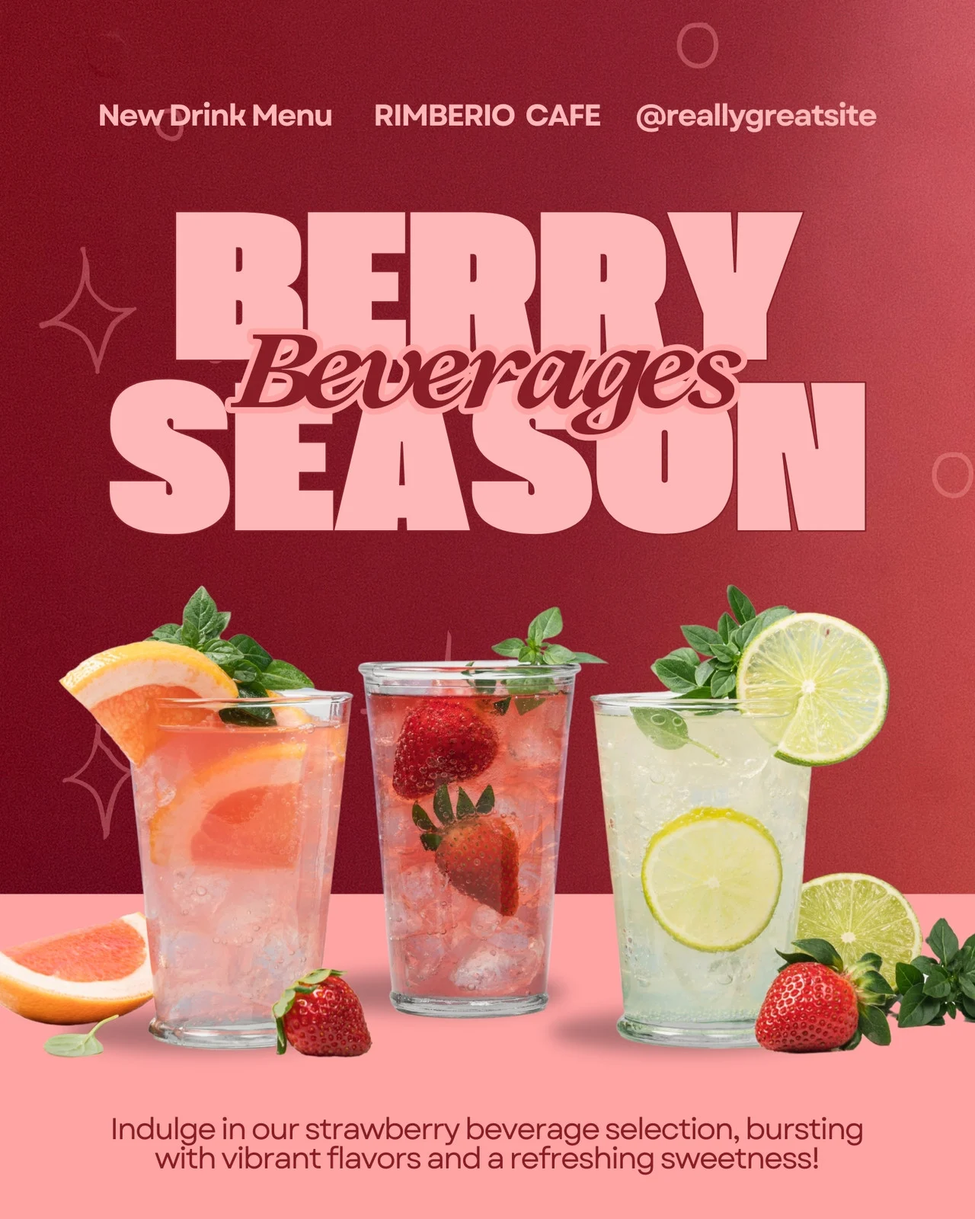CTA: (101, 1112, 880, 1178)
Headline: (53, 200, 911, 548)
Product: (67, 590, 898, 1061)
logo: (368, 93, 891, 136)
